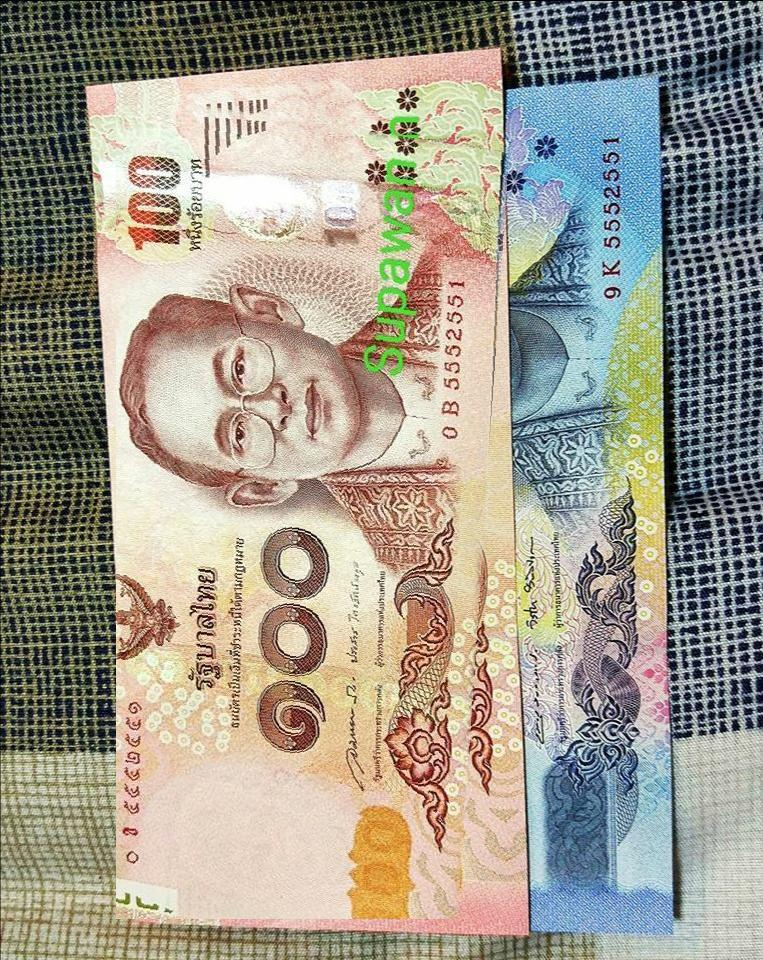100BahtTai: (117, 93, 510, 920)
